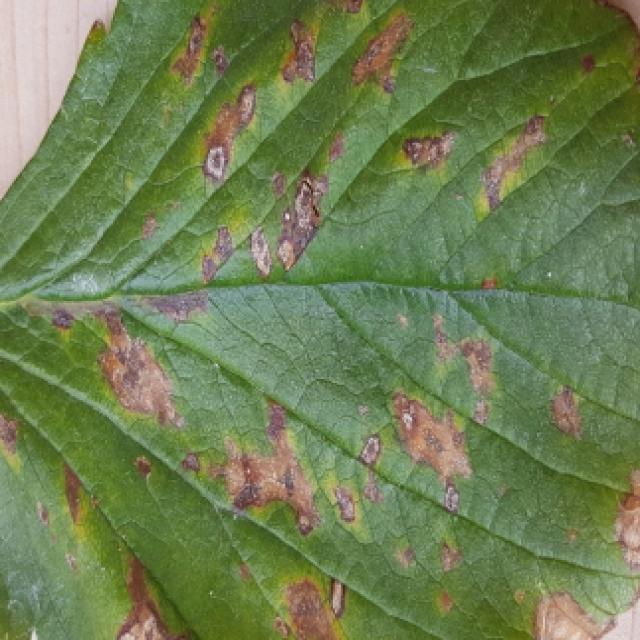Angular Leafspot: (0, 0, 640, 640)
